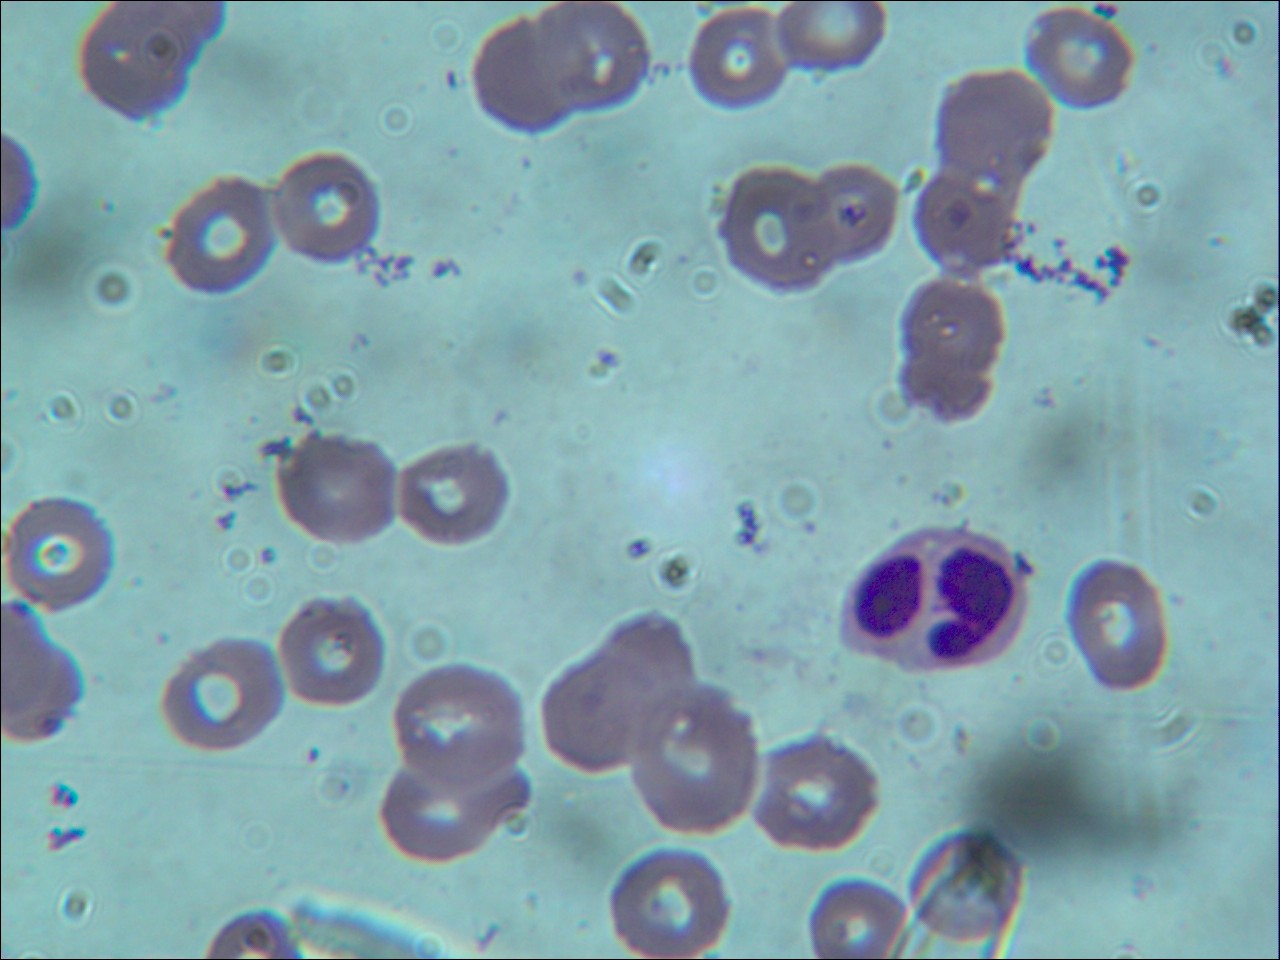Eritrosit: (545, 612, 698, 771), (631, 675, 756, 836), (380, 767, 539, 868), (705, 168, 831, 294), (162, 633, 283, 758), (393, 664, 524, 778), (748, 740, 877, 853), (1065, 558, 1175, 690), (609, 843, 733, 960), (896, 284, 1000, 414), (936, 68, 1055, 179), (6, 490, 115, 611), (534, 3, 648, 117), (271, 153, 381, 271), (280, 434, 399, 542), (77, 5, 193, 115), (473, 21, 580, 139), (395, 444, 511, 550), (168, 183, 277, 294), (274, 594, 383, 706), (912, 831, 1023, 940), (1020, 11, 1131, 109), (912, 177, 1017, 274), (770, 1, 903, 74), (689, 9, 784, 109), (805, 165, 899, 265), (806, 874, 906, 960)
Neutrofil: (831, 522, 1028, 675)
Platelet: (589, 342, 639, 383), (428, 62, 470, 99), (617, 528, 653, 571), (40, 778, 83, 814), (42, 821, 84, 856), (293, 739, 328, 777), (1089, 2, 1128, 34), (798, 514, 828, 550), (223, 474, 256, 505), (928, 483, 965, 511), (256, 430, 287, 462), (214, 503, 237, 541), (287, 402, 321, 428), (1024, 386, 1052, 414), (253, 541, 277, 568), (565, 268, 590, 293), (873, 430, 895, 456), (518, 155, 542, 174), (896, 471, 909, 492)
